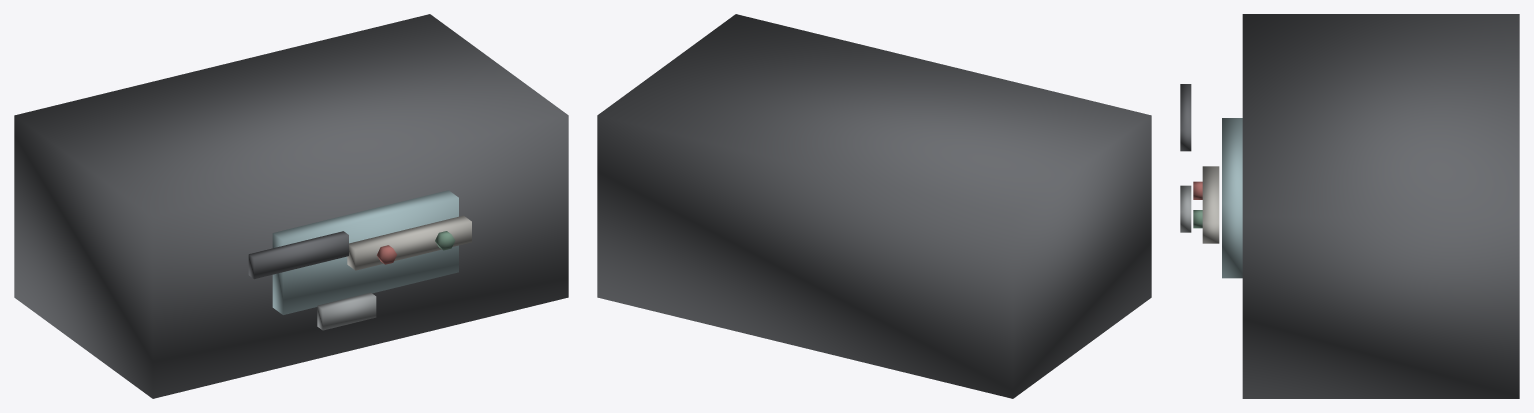
Rendered from cassette_deck__weathered.glb.
3 views of the same model, side by side, from view 1: azimuth 30°, elevation 25°; view 2: azimuth 150°, elevation 25°; view 3: azimuth 270°, elevation 25° (orthographic).
Visible parts, largest first — view 1: world; view 2: world; view 3: world.
Boxes of the visible parts, x1,y1,x2,y2 form: world: (14,14,568,398); world: (597,14,1151,398); world: (1180,14,1519,398).
Size of the model in its own units: 0.52 by 0.2178 by 0.3675.
